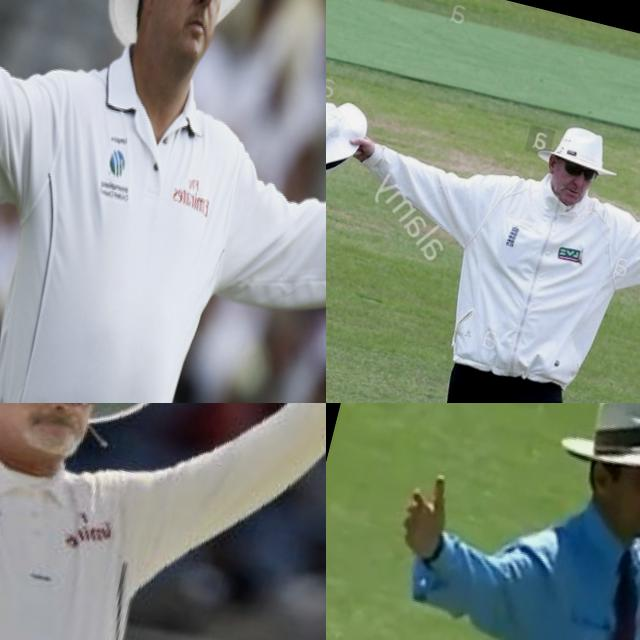Six: (0, 403, 326, 640)
Wide: (0, 0, 326, 403), (326, 36, 640, 403), (327, 403, 640, 640)
